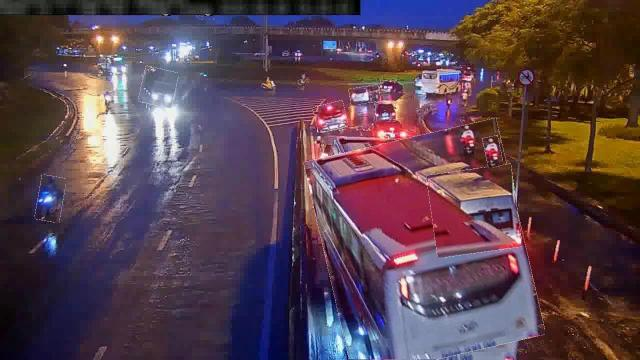Bike: (36, 176, 64, 222), (484, 136, 502, 168), (101, 92, 113, 109)
Bus: (315, 128, 535, 360), (429, 166, 519, 256)
Car: (314, 102, 346, 132), (349, 86, 379, 104), (375, 102, 395, 122), (380, 80, 404, 94)
Truck: (140, 68, 177, 106)
